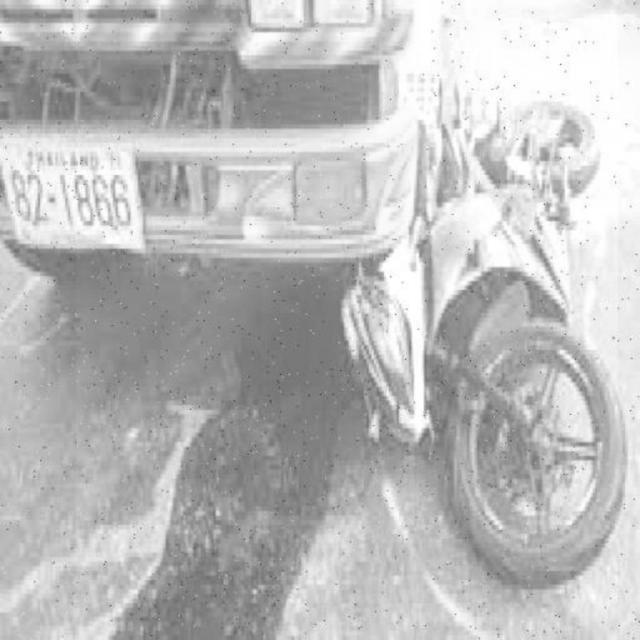accident: (77, 0, 618, 542)
